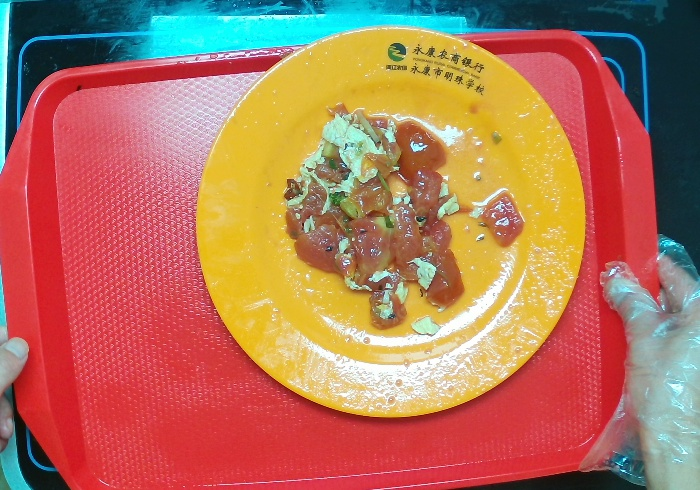YKMZ-Ju_Se_Mian_Pan: (195, 25, 587, 419)
